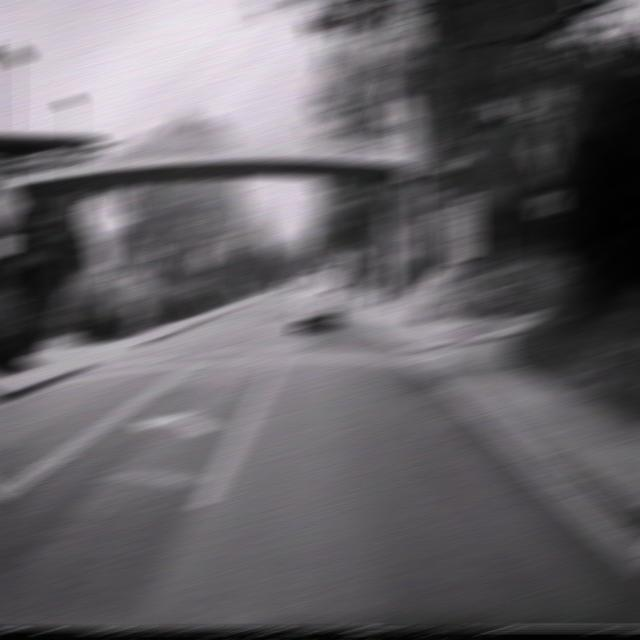pedestrianCrossing: (519, 103, 572, 188)
